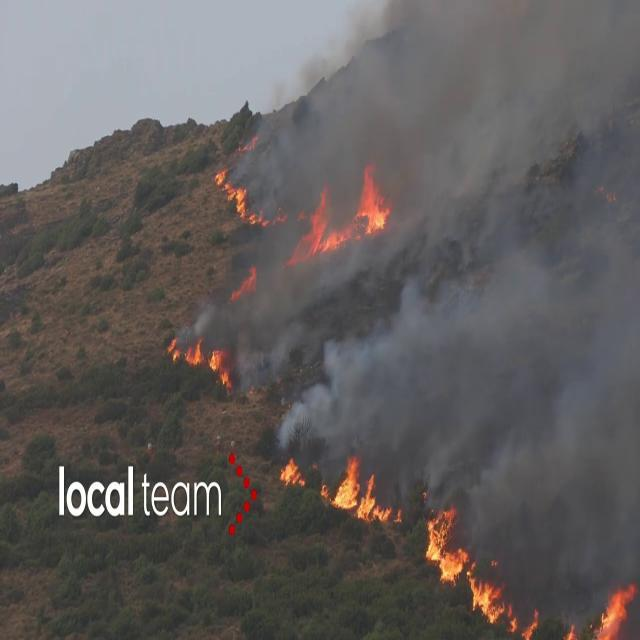Fire: (421, 504, 513, 630), (301, 165, 394, 256), (326, 450, 394, 527), (166, 329, 232, 382), (594, 575, 638, 638), (214, 166, 254, 226), (278, 452, 304, 492)
Smoke: (276, 0, 640, 613)
